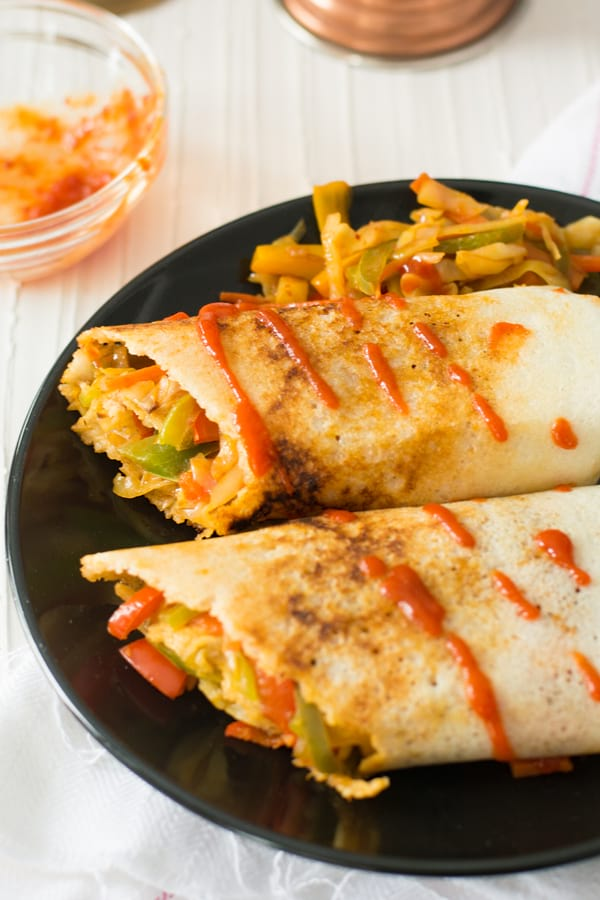dosa: (9, 274, 600, 799)
